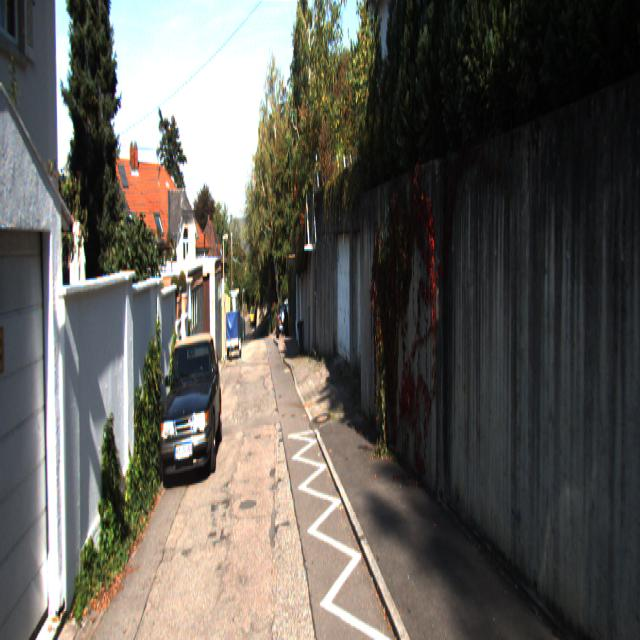Car: (157, 329, 223, 497), (226, 310, 240, 362), (276, 304, 290, 339)
